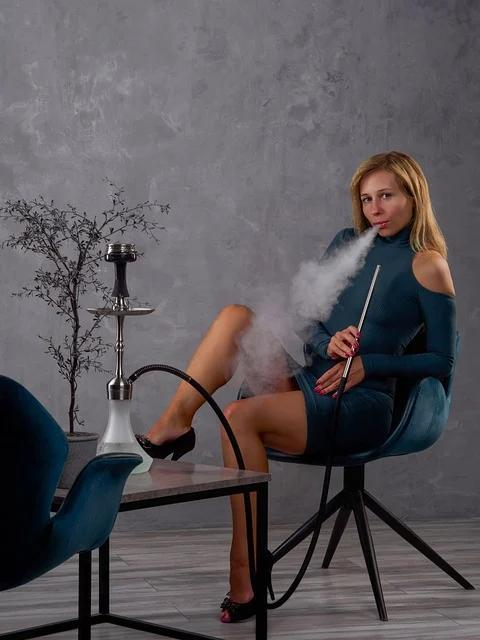smoker: (230, 120, 438, 300)
